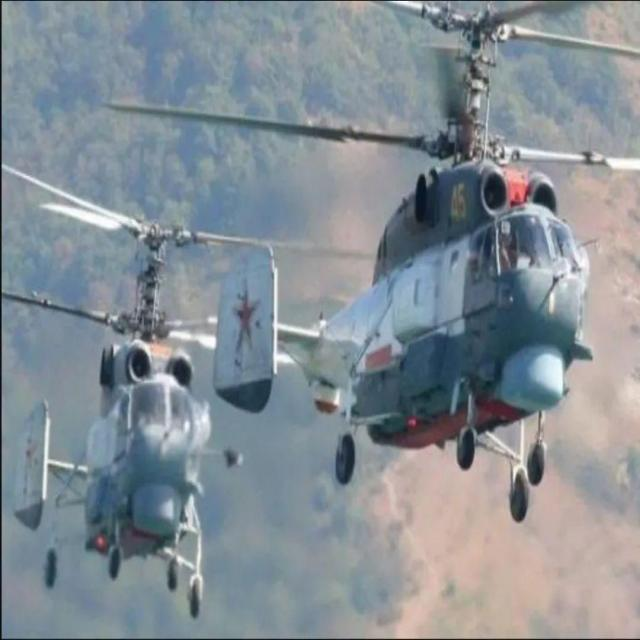MIL_HELO: (114, 0, 640, 527), (0, 145, 399, 614)
